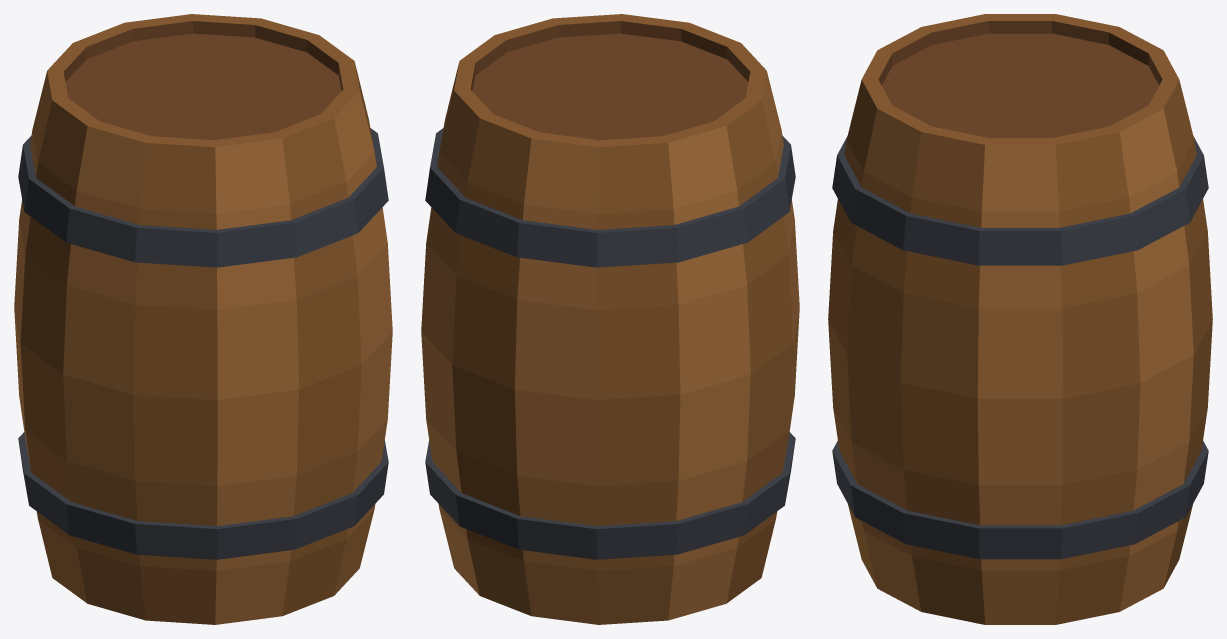
Rendered from Prop_Barrel.fbx.
3 views of the same model, side by side, from view 1: azimuth 30°, elevation 25°; view 2: azimuth 150°, elevation 25°; view 3: azimuth 270°, elevation 25° (orthographic).
Parts seen in each view (by area): view 1: Prop_Barrel; view 2: Prop_Barrel; view 3: Prop_Barrel.
Part boxes in pixels (x1,y1,x2,y2): Prop_Barrel: (14, 14, 392, 624); Prop_Barrel: (421, 14, 799, 624); Prop_Barrel: (828, 14, 1212, 624).
Size of the model in its own units: 0.6727 by 0.95 by 0.69.
